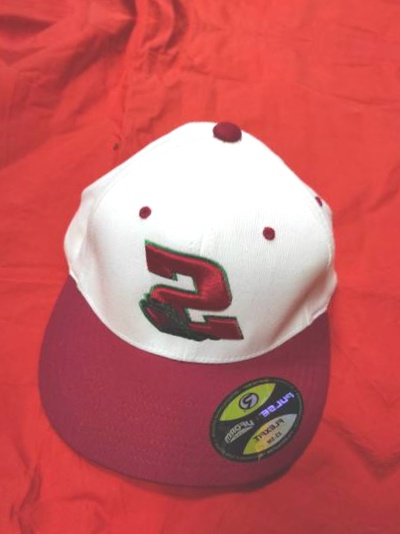Hat: (7, 77, 385, 512)
